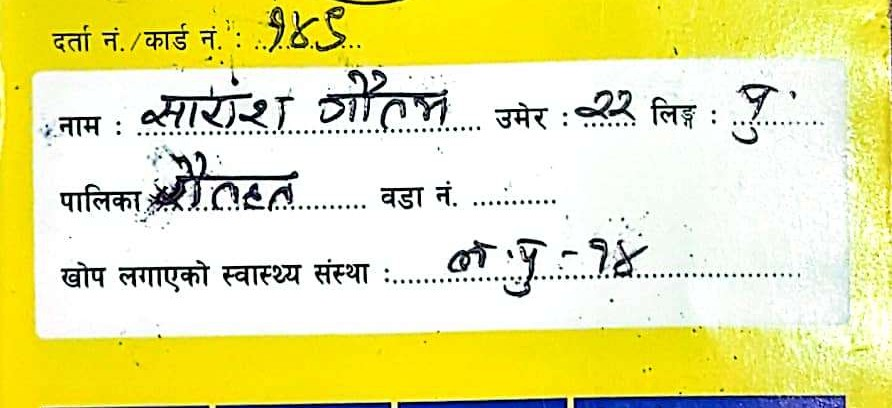text: (147, 150, 316, 215), (115, 72, 296, 132), (307, 68, 454, 128), (584, 220, 655, 289), (252, 6, 354, 54), (721, 71, 780, 148), (566, 81, 640, 126), (504, 230, 549, 302), (440, 231, 493, 278)
